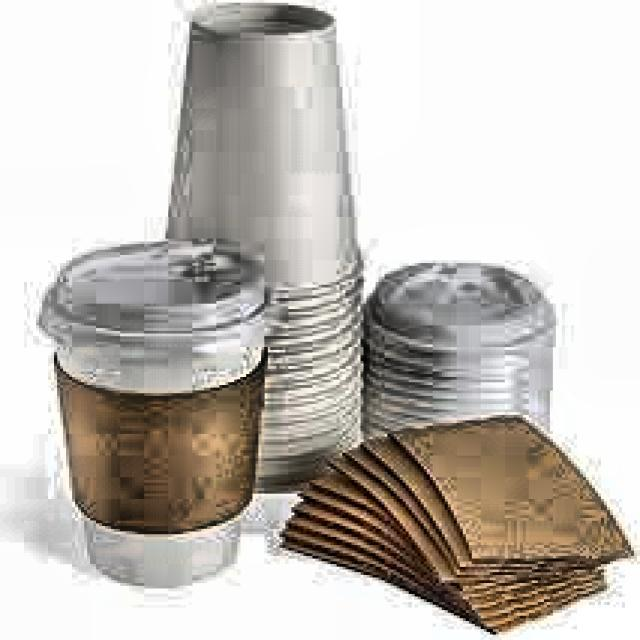Cup: (159, 0, 367, 506), (39, 243, 260, 592)
